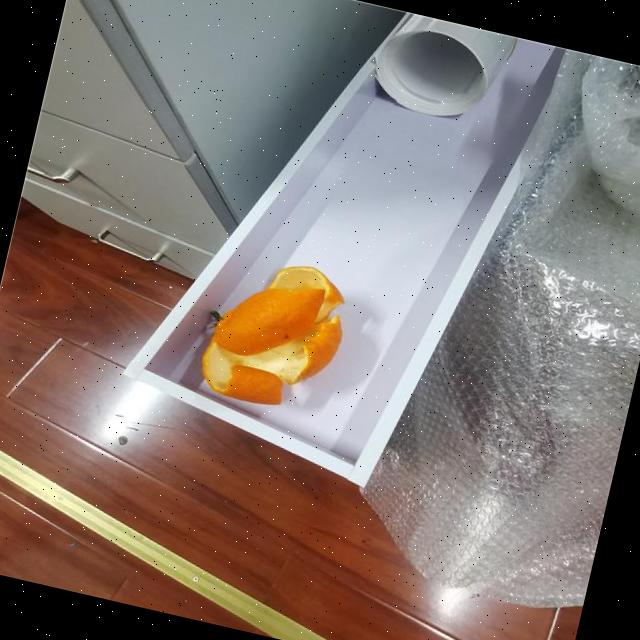orange-peel: (191, 244, 356, 420)
